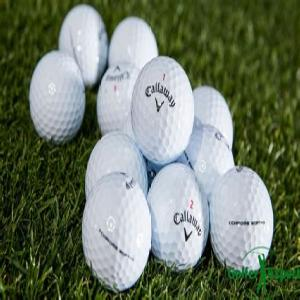Golf: (82, 171, 152, 292), (209, 164, 274, 272), (146, 164, 210, 271), (134, 54, 190, 158), (30, 50, 84, 144), (84, 132, 148, 196), (59, 3, 110, 80), (186, 120, 238, 192), (112, 12, 161, 76), (96, 61, 138, 133), (190, 86, 235, 150)
